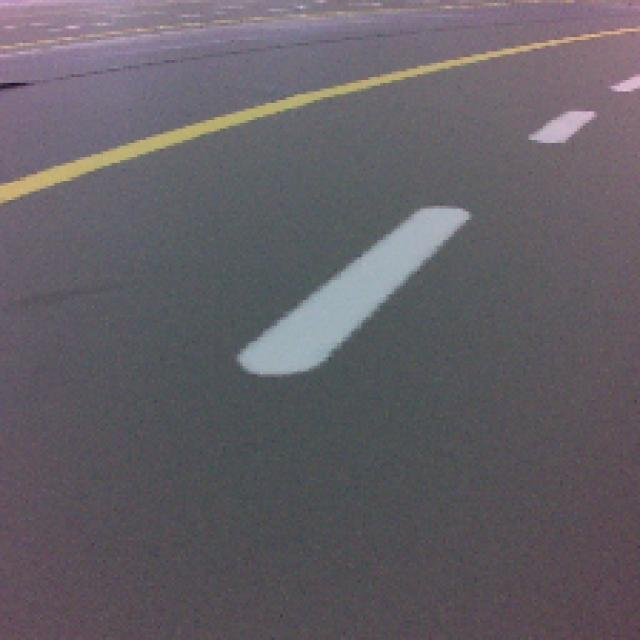Road: (0, 448, 635, 640)
